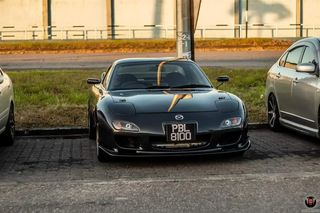License-Plate: (166, 124, 193, 141)
